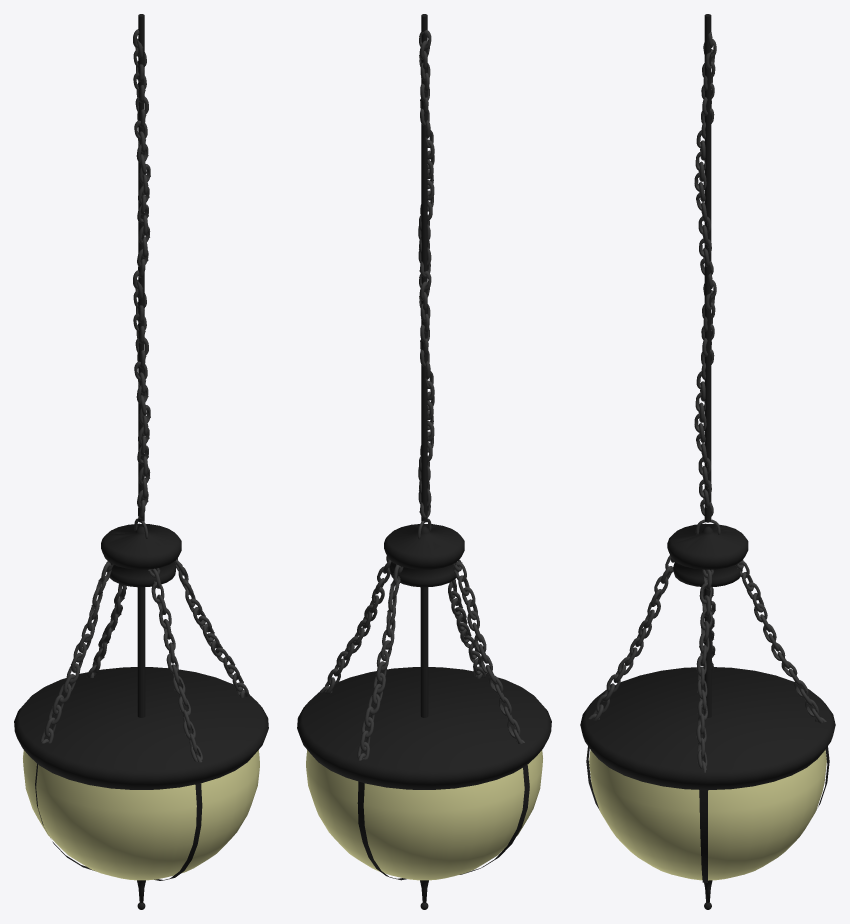
File: hanginglamp.fbx
3 renders of one model, left to right at view 1: azimuth 30°, elevation 25°; view 2: azimuth 150°, elevation 25°; view 3: azimuth 270°, elevation 25°, orthographic.
Visible parts, largest first — view 1: hanging lamp; view 2: hanging lamp; view 3: hanging lamp.
Part boxes in pixels (bbox=[...]): hanging lamp: bbox=[14, 14, 268, 909]; hanging lamp: bbox=[297, 14, 551, 909]; hanging lamp: bbox=[580, 14, 835, 909].
Bounding box in the file's own units: 3.49 × 3.49 × 13.49.
